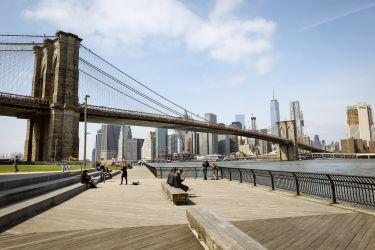bridge: (1, 31, 334, 156)
